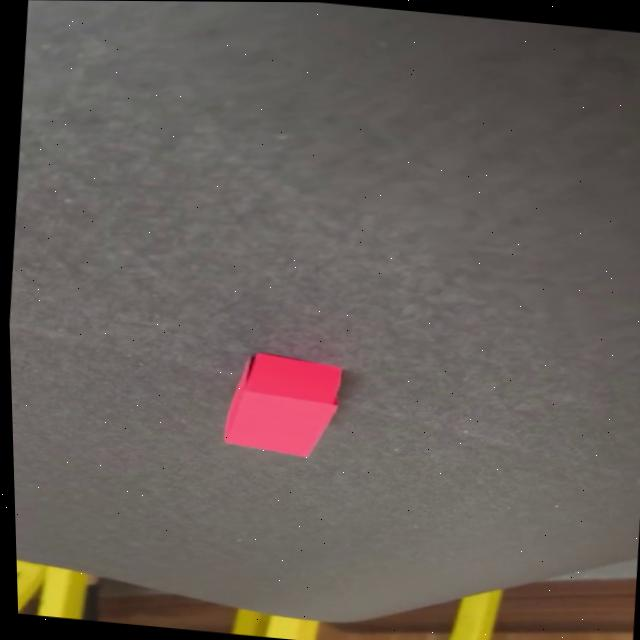red block: (218, 348, 346, 460)
